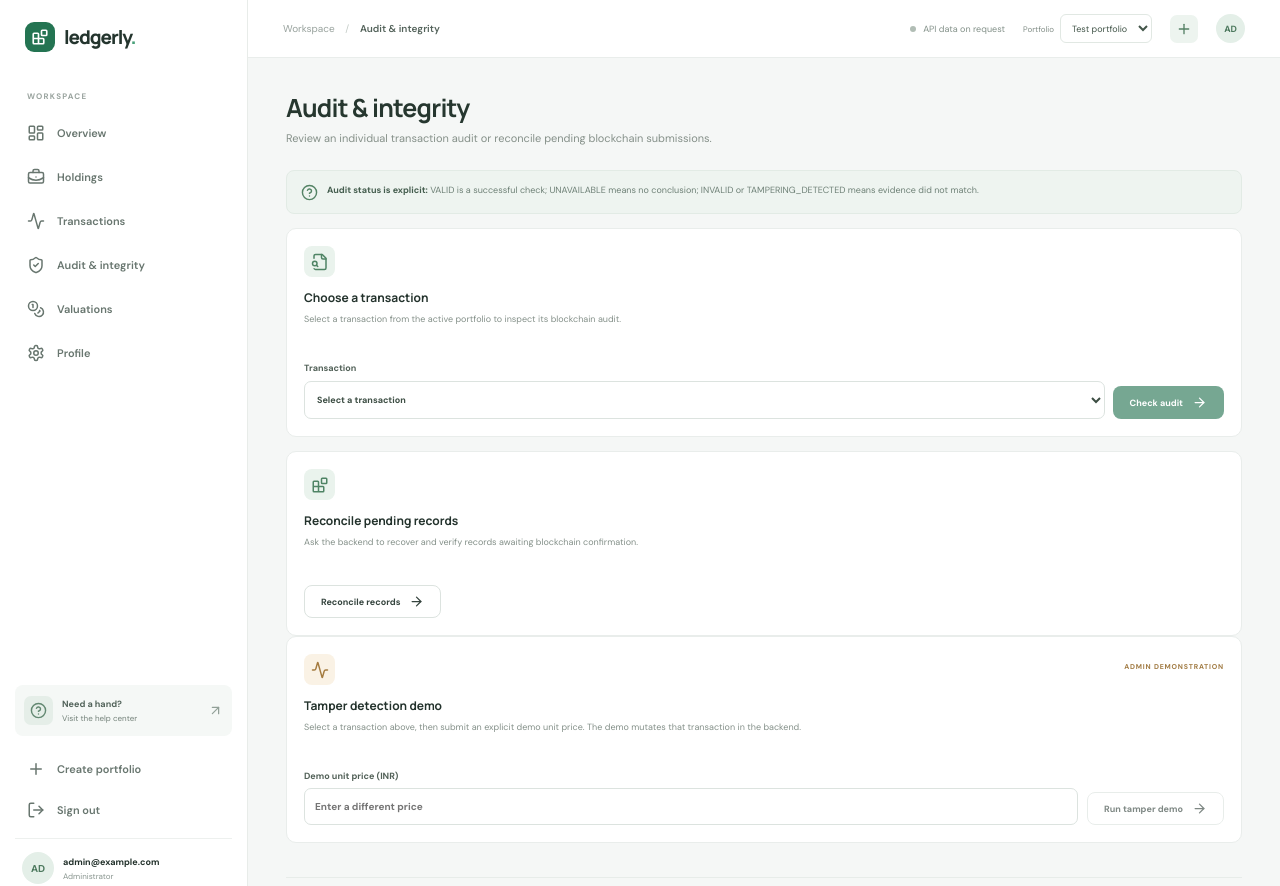
Scenario: admin tamper demonstration › requires an admin, selected transaction, and explicit demo price
The image size is (1280, 886).
Select "2026-10-20 · BUY 2 RELIANCE · CONFIRMED" in the dropdown named "Select transaction to audit" at {"x": 704, "y": 400}, box x1=304 y1=381 x2=1104 y2=419
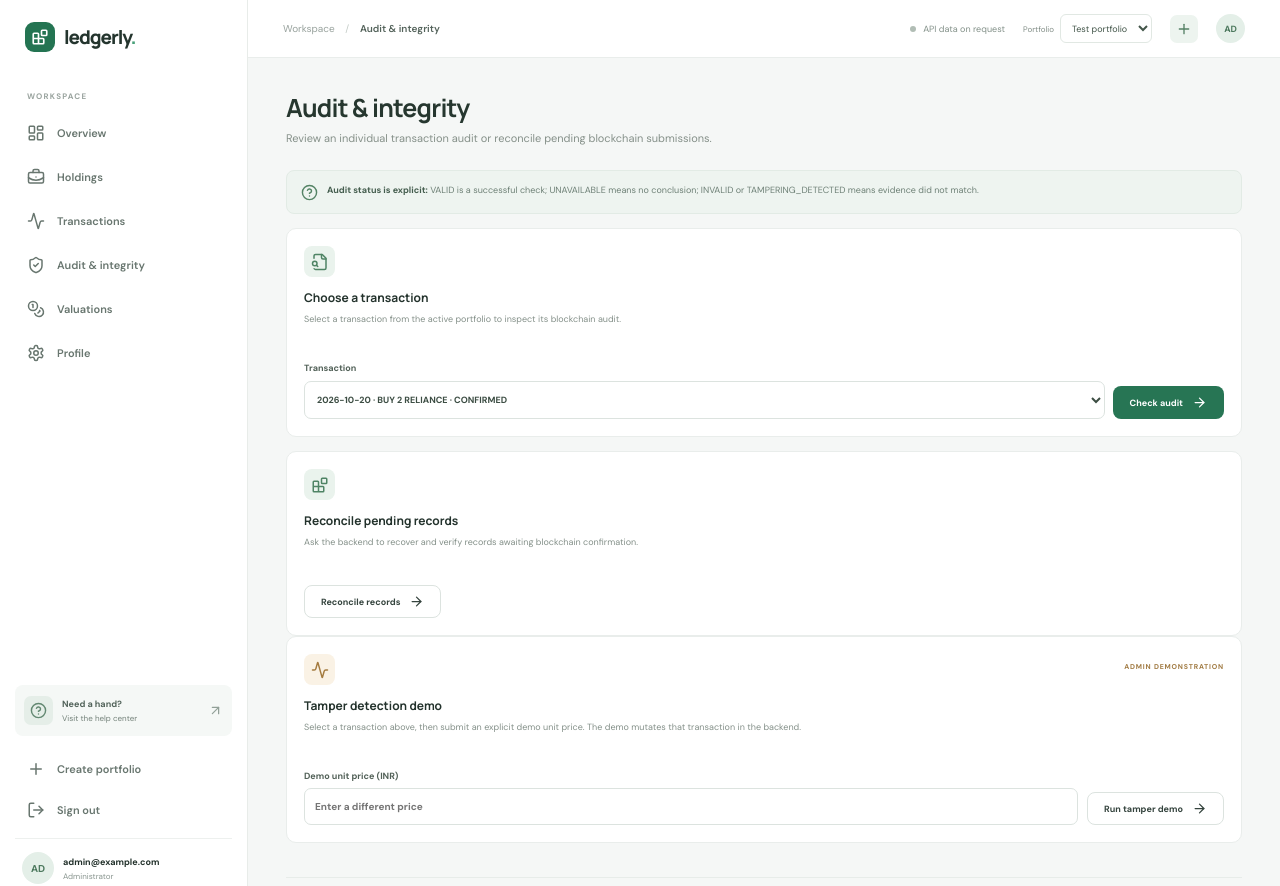
Click the button "Run tamper demo" at {"x": 1156, "y": 808}, box x1=1087 y1=792 x2=1224 y2=825
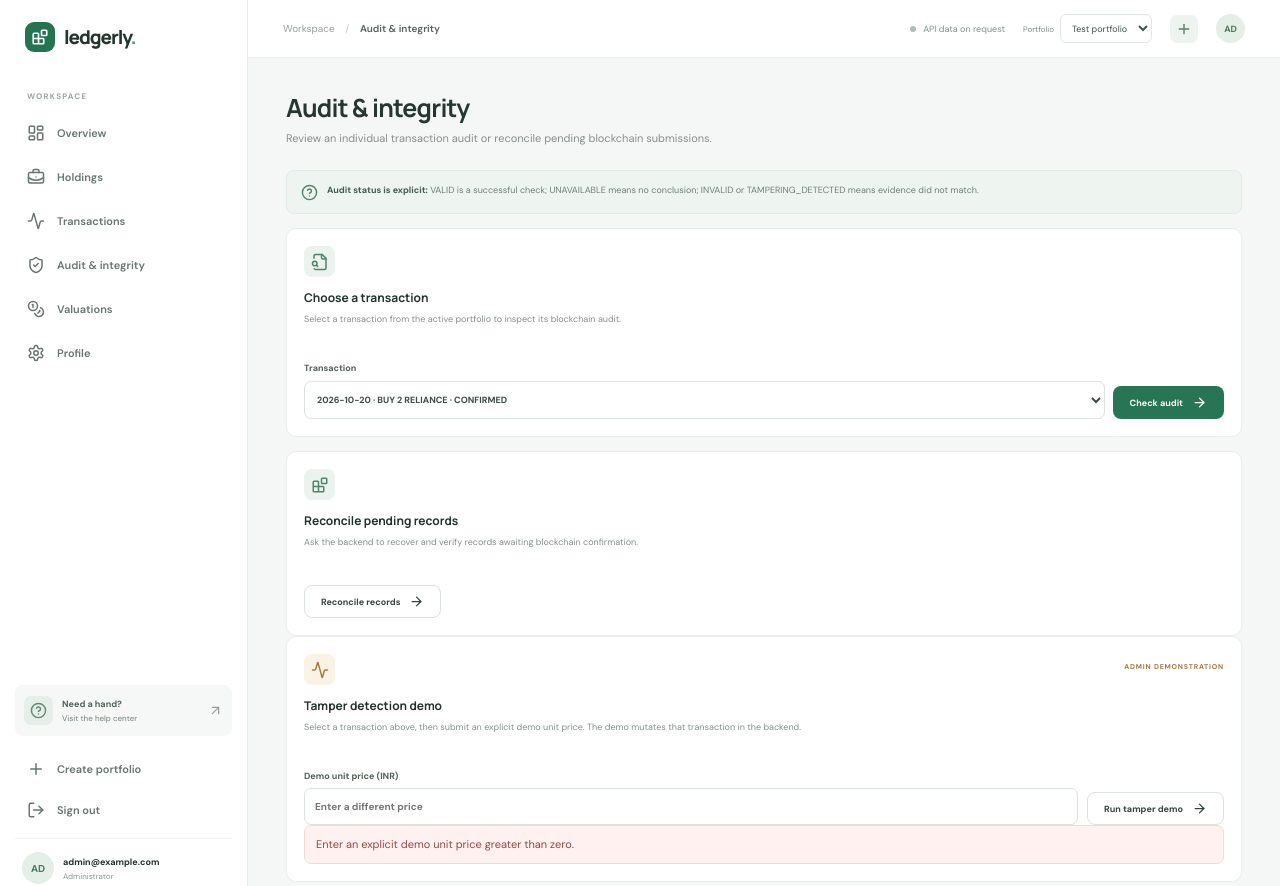
expect the message shows "explicit demo unit price": met, box x1=316 y1=837 x2=574 y2=851
Type "12.5" into the number field labelled "Demo unit price (INR)" at {"x": 691, "y": 806}, box x1=304 y1=788 x2=1078 y2=825
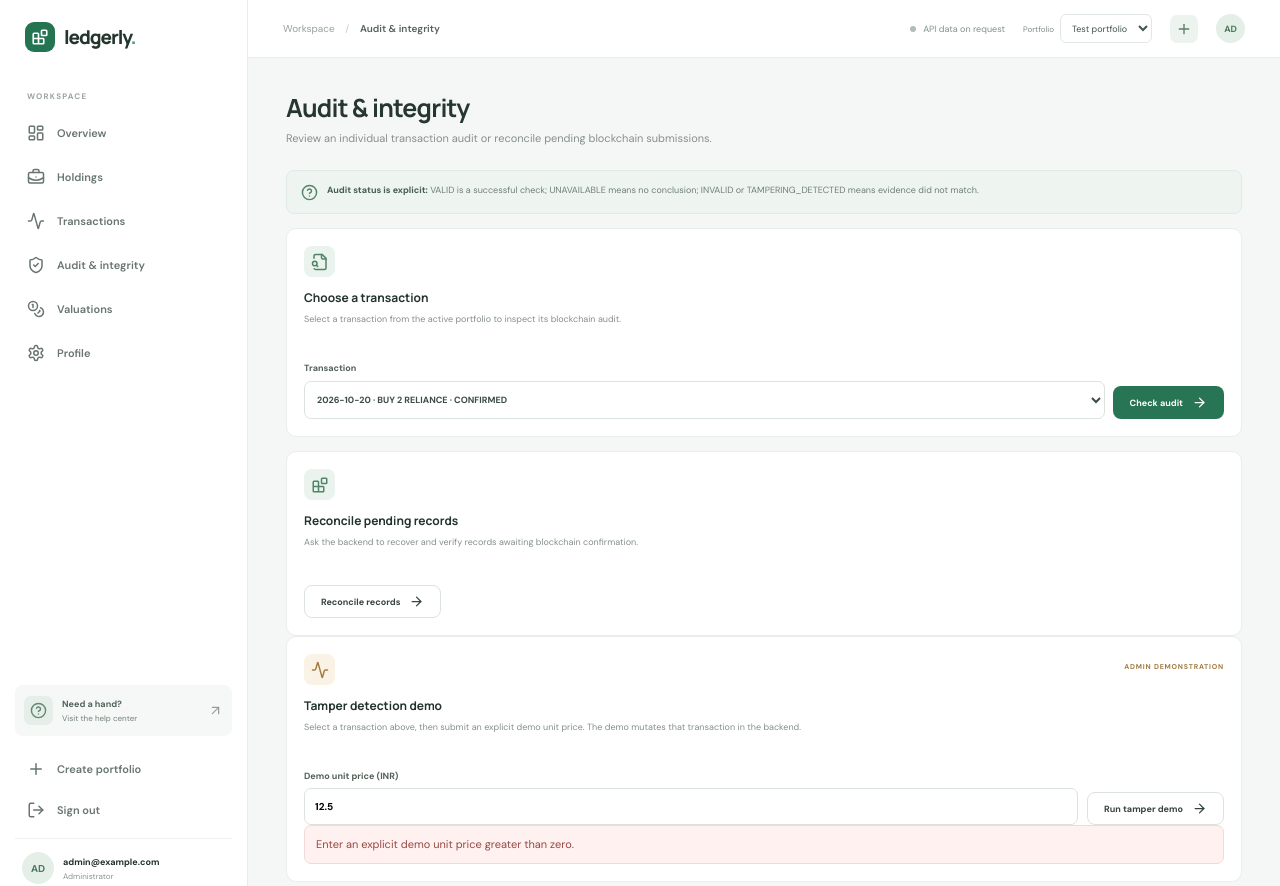
Click the button "Run tamper demo" at {"x": 1156, "y": 808}, box x1=1087 y1=792 x2=1224 y2=825
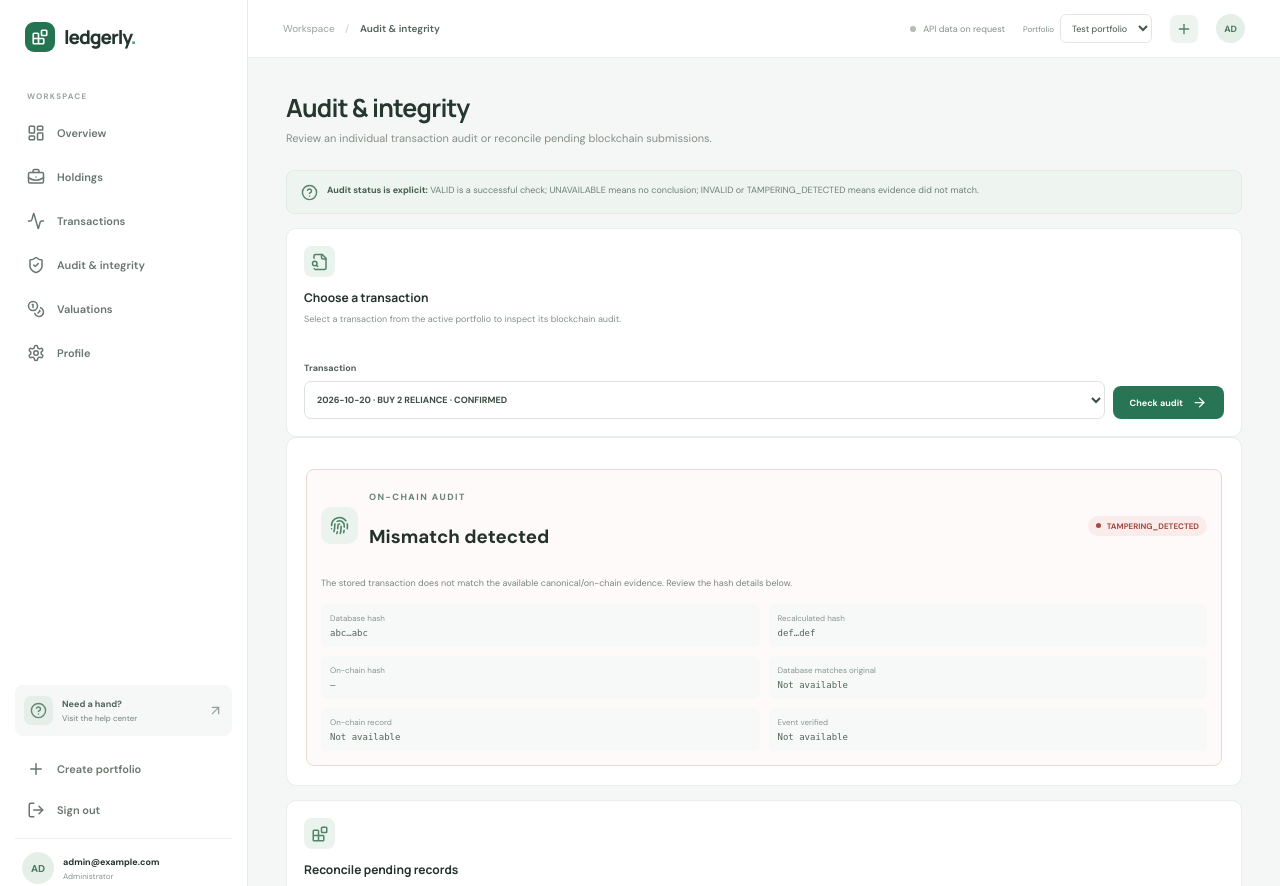
expect the heading "Mismatch detected" is shown: met, box x1=369 y1=524 x2=549 y2=549
expect the text "TAMPERING_DETECTED" is shown: met, box x1=1088 y1=516 x2=1207 y2=536
